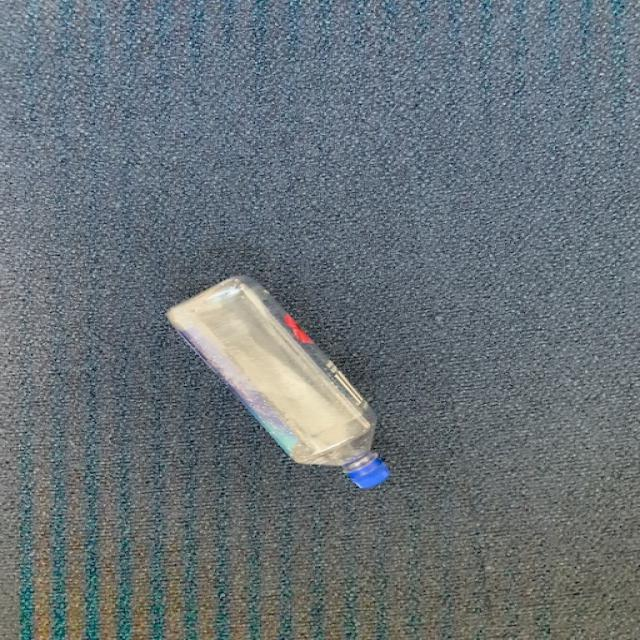Waste: (166, 277, 390, 490)
